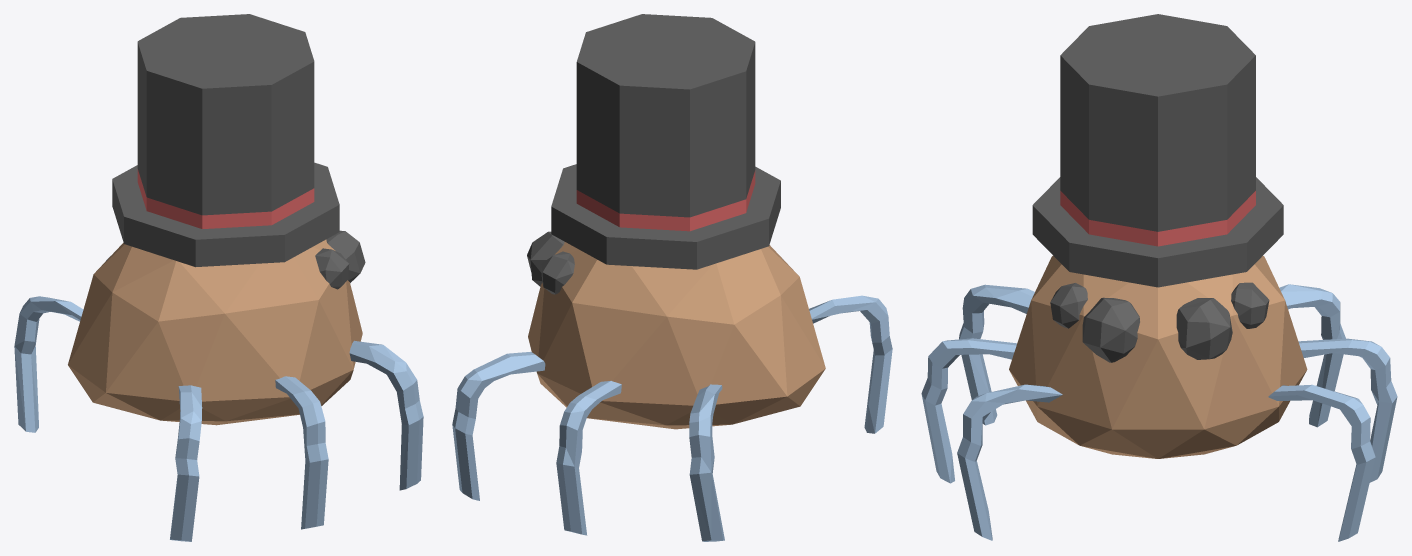
The model's file is SpiderJelly.fbx.
The picture shows the model from 3 angles, left to right: view 1: azimuth 30°, elevation 25°; view 2: azimuth 150°, elevation 25°; view 3: azimuth 270°, elevation 25°; orthographic projection. The views are drawn at different scales.
Visible parts, largest first — view 1: SpiderJelly; view 2: SpiderJelly; view 3: SpiderJelly.
Boxes of the visible parts, box(x1,y1,x2,y2) form: SpiderJelly: box(14, 14, 423, 541); SpiderJelly: box(452, 14, 892, 541); SpiderJelly: box(921, 14, 1397, 541).
Size of the model in its own units: 210 by 319 by 319.
